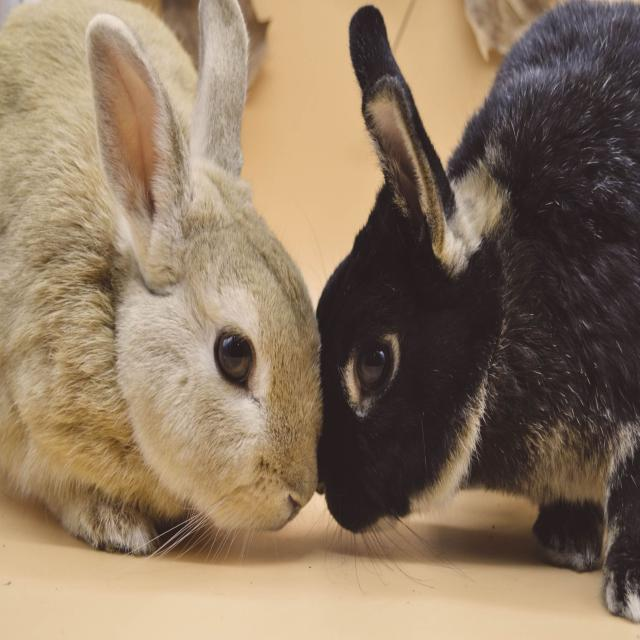Hare: (325, 0, 640, 640), (3, 0, 322, 562)
